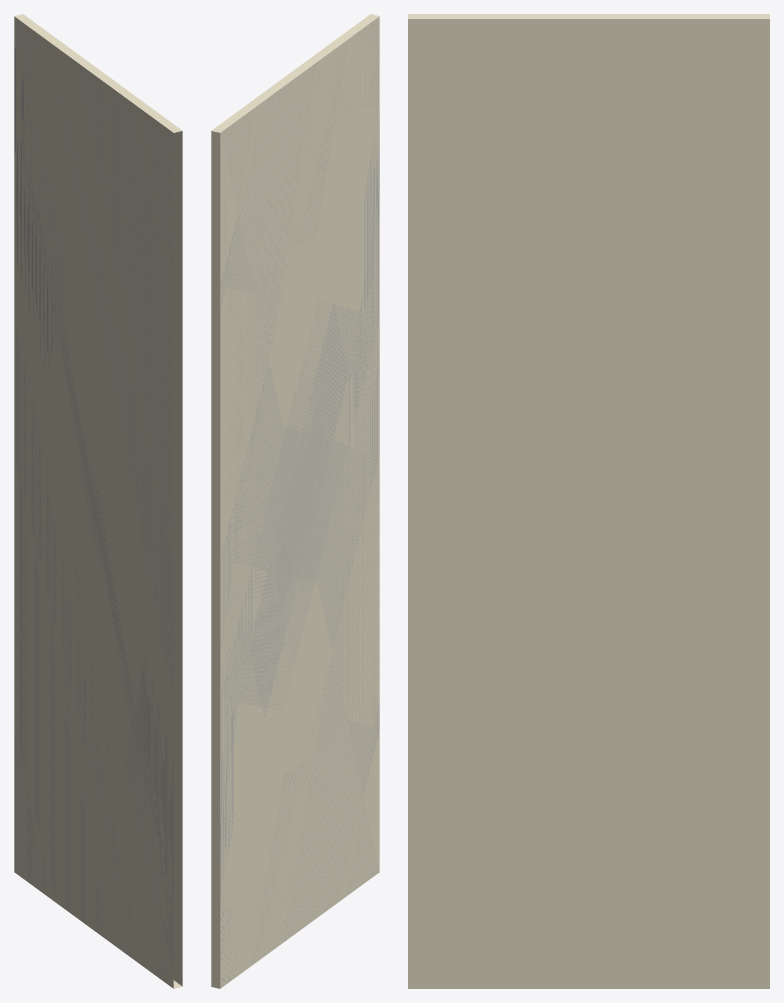
File: original-4.obj
3 renders of one model, left to right at view 1: azimuth 30°, elevation 25°; view 2: azimuth 150°, elevation 25°; view 3: azimuth 270°, elevation 25°, orthographic. The views are drawn at different scales.
Parts seen in each view (by area): view 1: mesh2/mesh2-geometry#mesh2-geometry; view 2: mesh2/mesh2-geometry#mesh2-geometry; view 3: mesh2/mesh2-geometry#mesh2-geometry.
Part boxes in pixels (x1,y1,x2,y2): mesh2/mesh2-geometry#mesh2-geometry: [14, 14, 182, 988]; mesh2/mesh2-geometry#mesh2-geometry: [211, 14, 379, 988]; mesh2/mesh2-geometry#mesh2-geometry: [408, 14, 769, 988].
Bounding box in the file's own units: 0.0177 × 1.6 × 0.5422.
